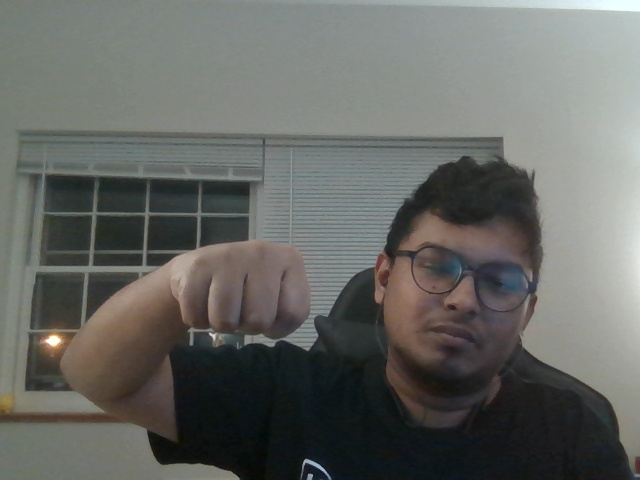yes: (160, 222, 318, 360)
